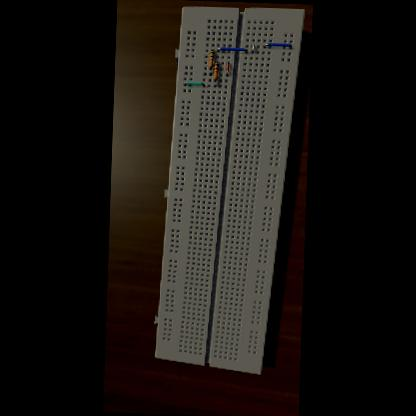breadboard: (153, 2, 306, 374)
resistor: (209, 50, 215, 68), (214, 62, 220, 80)
wire: (218, 47, 247, 53), (264, 42, 292, 48), (186, 81, 206, 86), (227, 62, 229, 76), (252, 42, 254, 52), (211, 68, 212, 74), (215, 80, 216, 86), (216, 60, 218, 62), (212, 48, 213, 50)
